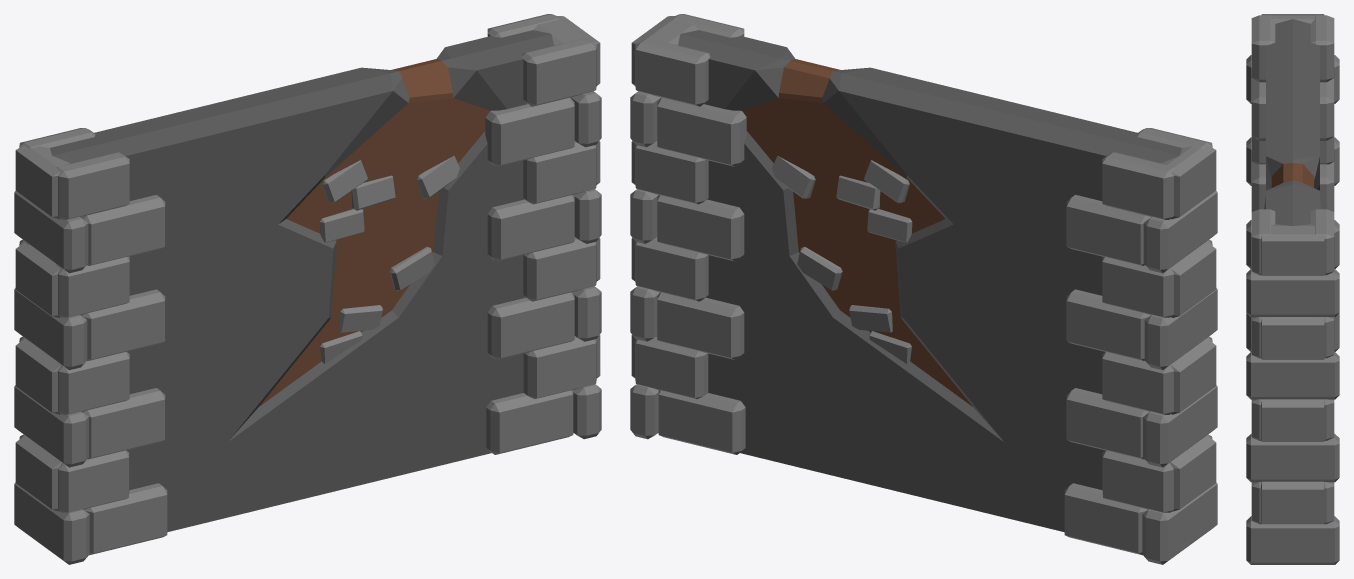
The model's file is DungeonWallBroken.fbx.
The picture shows the model from 3 angles, left to right: view 1: azimuth 30°, elevation 25°; view 2: azimuth 150°, elevation 25°; view 3: azimuth 270°, elevation 25°; orthographic projection. The views are drawn at different scales.
Parts seen in each view (by area): view 1: DungeonWallBroken; view 2: DungeonWallBroken; view 3: DungeonWallBroken.
Boxes of the visible parts, bbox=[...] form: DungeonWallBroken: bbox=[14, 14, 601, 564]; DungeonWallBroken: bbox=[630, 14, 1217, 564]; DungeonWallBroken: bbox=[1246, 14, 1339, 564].
Size of the model in its own units: 520 by 353 by 90.43.
Materials: 2 (2 with a texture image).
